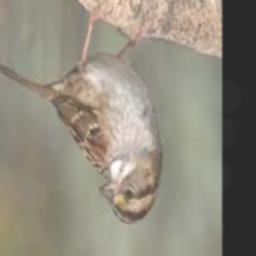Sparrow: (0, 1, 162, 223)
